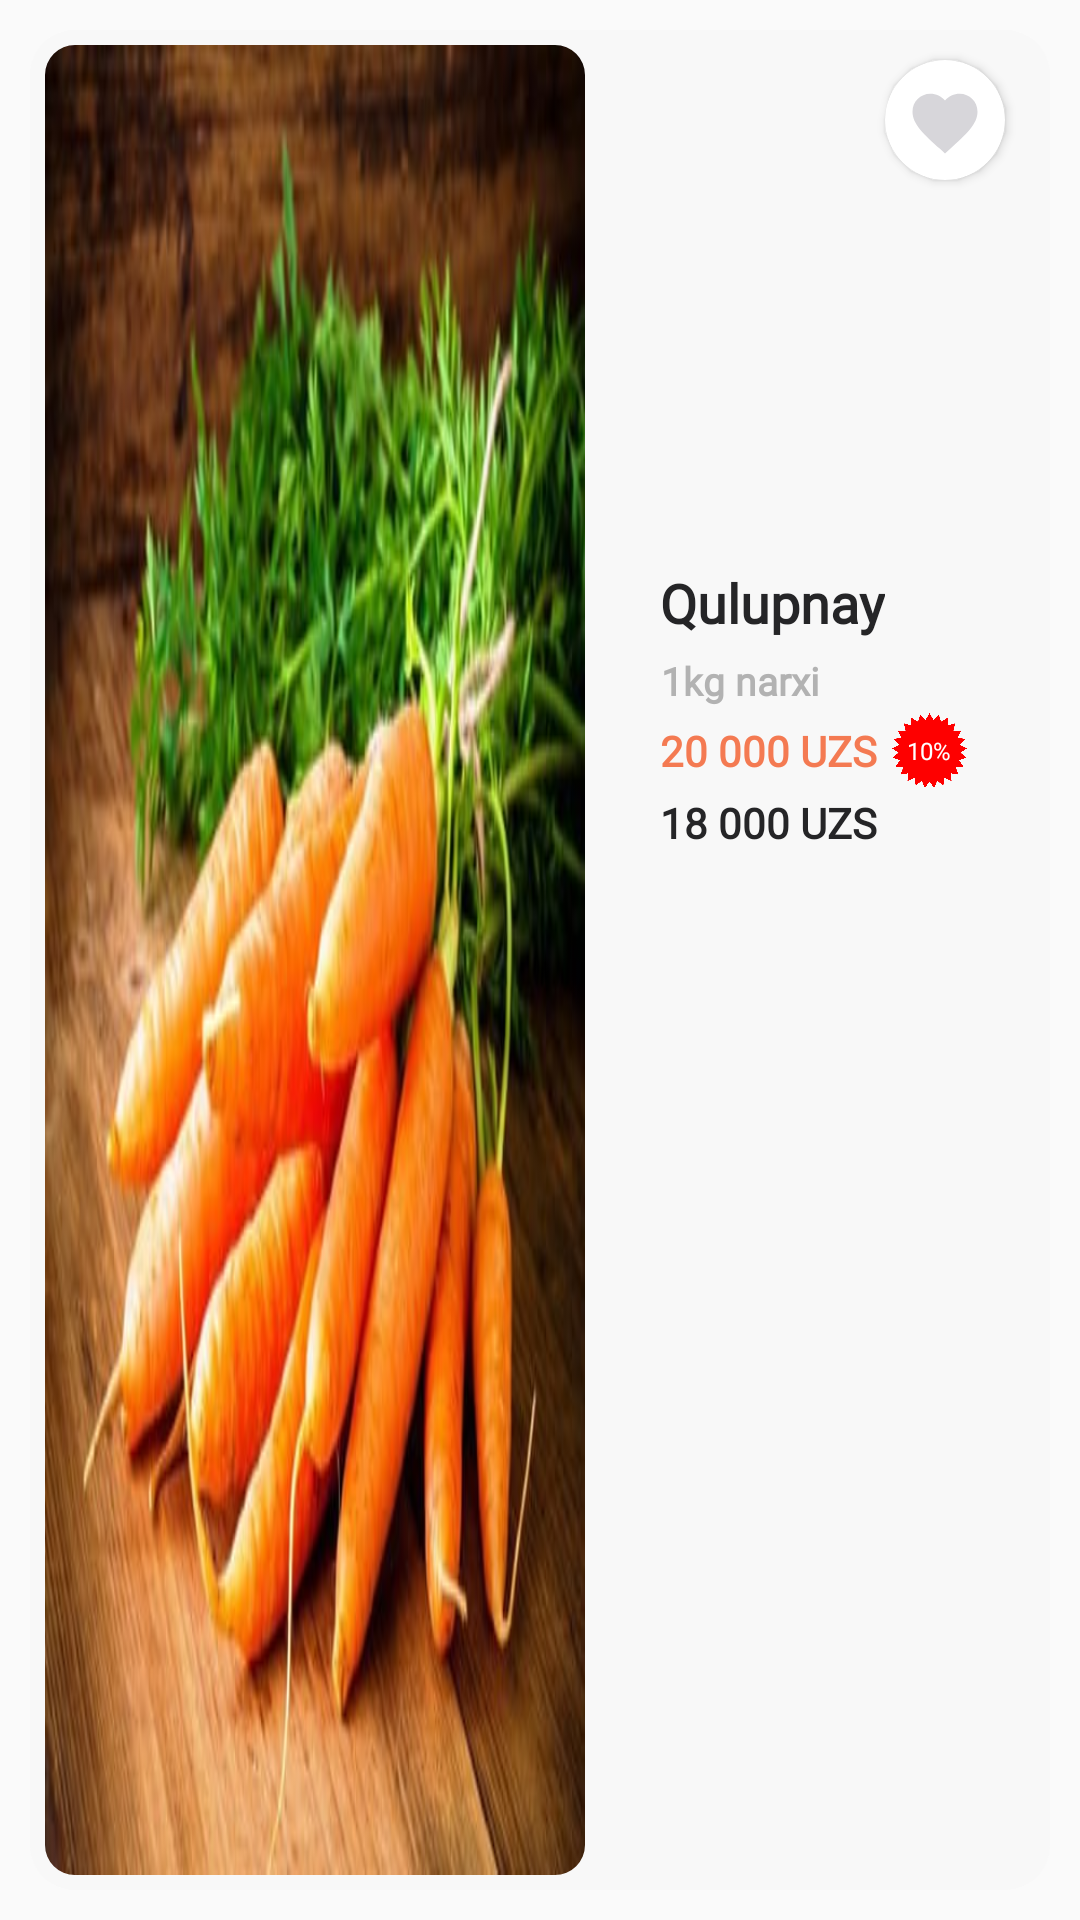

Screen size 1080×1920. Icon name, then its box in pixels as (x1, y1, x2, y2):
favorite: (913, 94, 977, 153)
